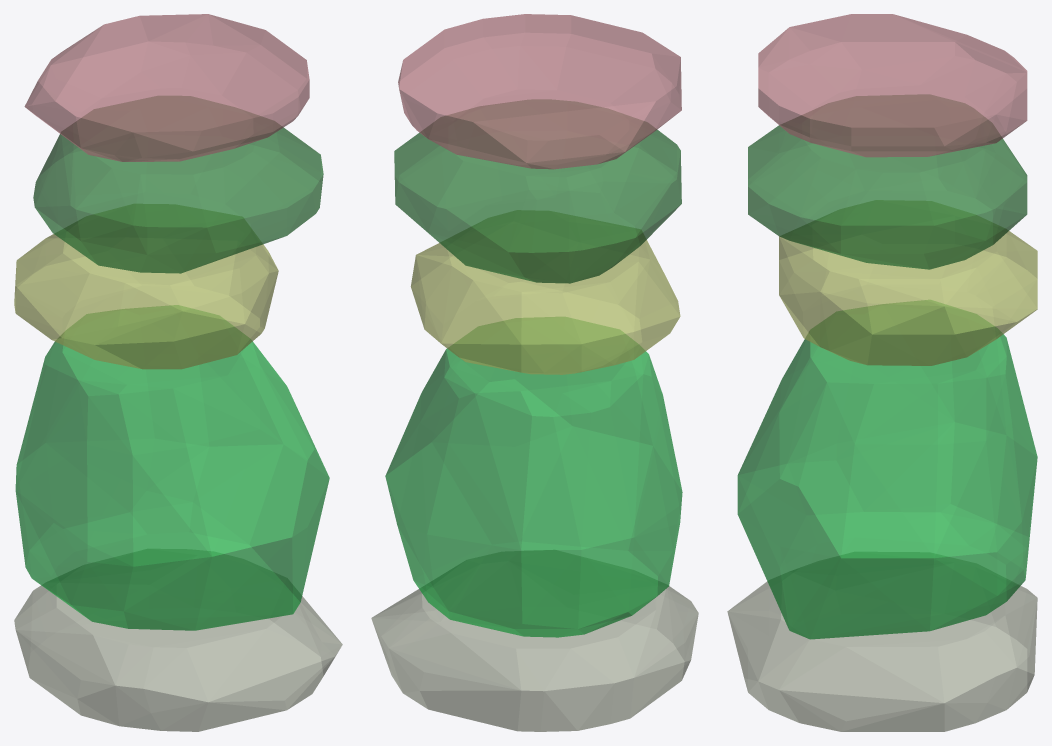
The picture shows the model from 3 angles, left to right: view 1: azimuth 30°, elevation 25°; view 2: azimuth 150°, elevation 25°; view 3: azimuth 270°, elevation 25°; orthographic projection.
Parts seen in each view (by area): view 1: Shape_IndexedFaceSet.001, Shape_IndexedFaceSet, Shape_IndexedFaceSet.003, Shape_IndexedFaceSet.002, Shape_IndexedFaceSet.004; view 2: Shape_IndexedFaceSet.001, Shape_IndexedFaceSet, Shape_IndexedFaceSet.003, Shape_IndexedFaceSet.004, Shape_IndexedFaceSet.002; view 3: Shape_IndexedFaceSet.001, Shape_IndexedFaceSet, Shape_IndexedFaceSet.003, Shape_IndexedFaceSet.002, Shape_IndexedFaceSet.004.
Part boxes in pixels (box(x1,y1,x2,y2)): Shape_IndexedFaceSet.001: box(15, 305, 329, 630); Shape_IndexedFaceSet: box(14, 549, 342, 731); Shape_IndexedFaceSet.003: box(33, 96, 323, 273); Shape_IndexedFaceSet.002: box(14, 204, 278, 369); Shape_IndexedFaceSet.004: box(24, 14, 309, 161); Shape_IndexedFaceSet.001: box(385, 317, 682, 637); Shape_IndexedFaceSet: box(371, 550, 698, 731); Shape_IndexedFaceSet.003: box(394, 100, 681, 283); Shape_IndexedFaceSet.004: box(398, 14, 681, 169); Shape_IndexedFaceSet.002: box(410, 210, 680, 374); Shape_IndexedFaceSet.001: box(737, 300, 1037, 639); Shape_IndexedFaceSet: box(727, 552, 1037, 731); Shape_IndexedFaceSet.003: box(748, 95, 1027, 269); Shape_IndexedFaceSet.002: box(779, 200, 1037, 365); Shape_IndexedFaceSet.004: box(758, 14, 1027, 157).
Bounding box in the file's own units: 0.3957 × 0.8441 × 0.3957.
